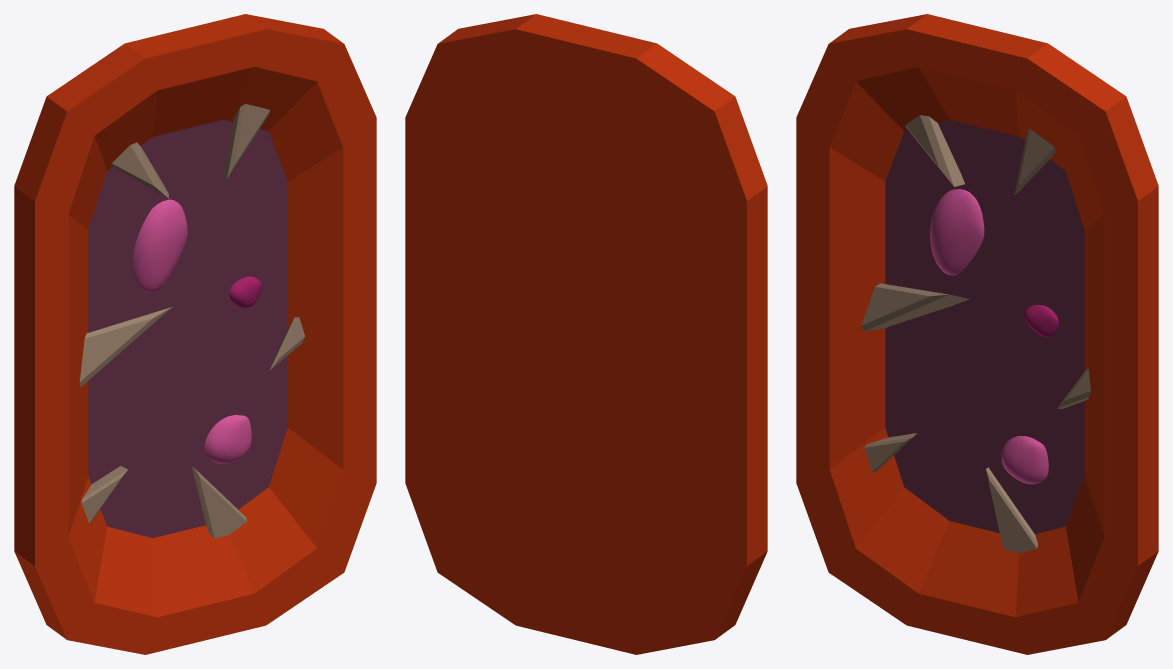
Rendered from Door_mouth.glb.
3 renders of one model, left to right at view 1: azimuth 30°, elevation 25°; view 2: azimuth 150°, elevation 25°; view 3: azimuth 330°, elevation 25°, orthographic.
Parts seen in each view (by area): view 1: Cube.002; view 2: Cube.002; view 3: Cube.002.
Boxes of the visible parts, x1,y1,x2,y2 form: Cube.002: (14,14,376,654); Cube.002: (405,14,767,654); Cube.002: (796,14,1158,654).
Size of the model in its own units: 3 by 5 by 0.3148.
1 material, 1 textured.
